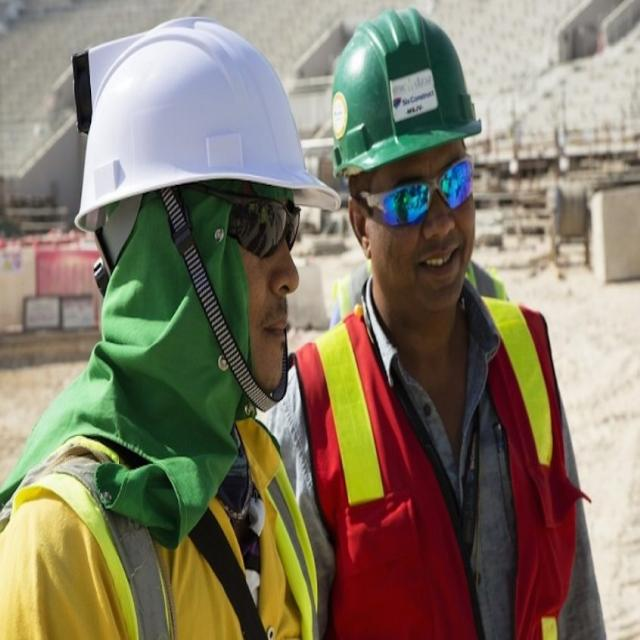Reflective-Jacket: (293, 294, 574, 636), (5, 400, 320, 640)
Safety-Helmet: (70, 16, 328, 232), (325, 4, 485, 180)
